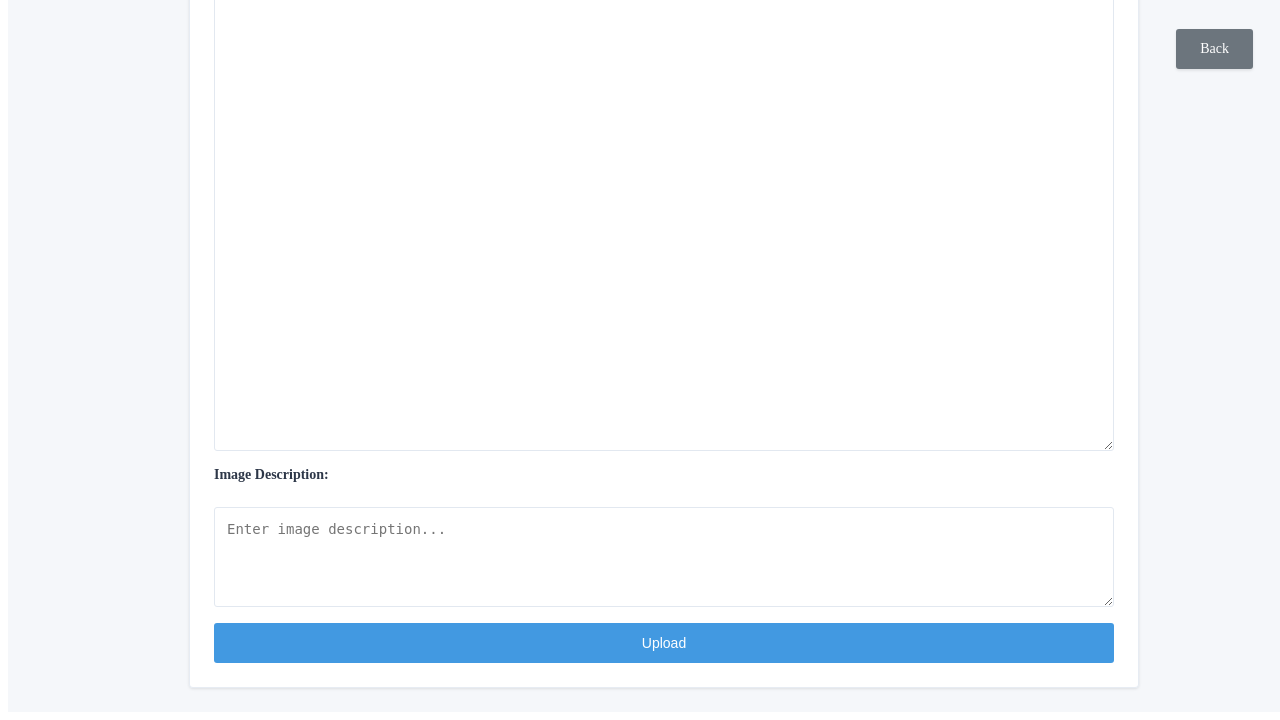
Test: UploadZPLPage › handles axios error gracefully
(page scrolled)
Click the button "Upload" at (664, 643), box [214, 623, 1114, 663]
(page scrolled)
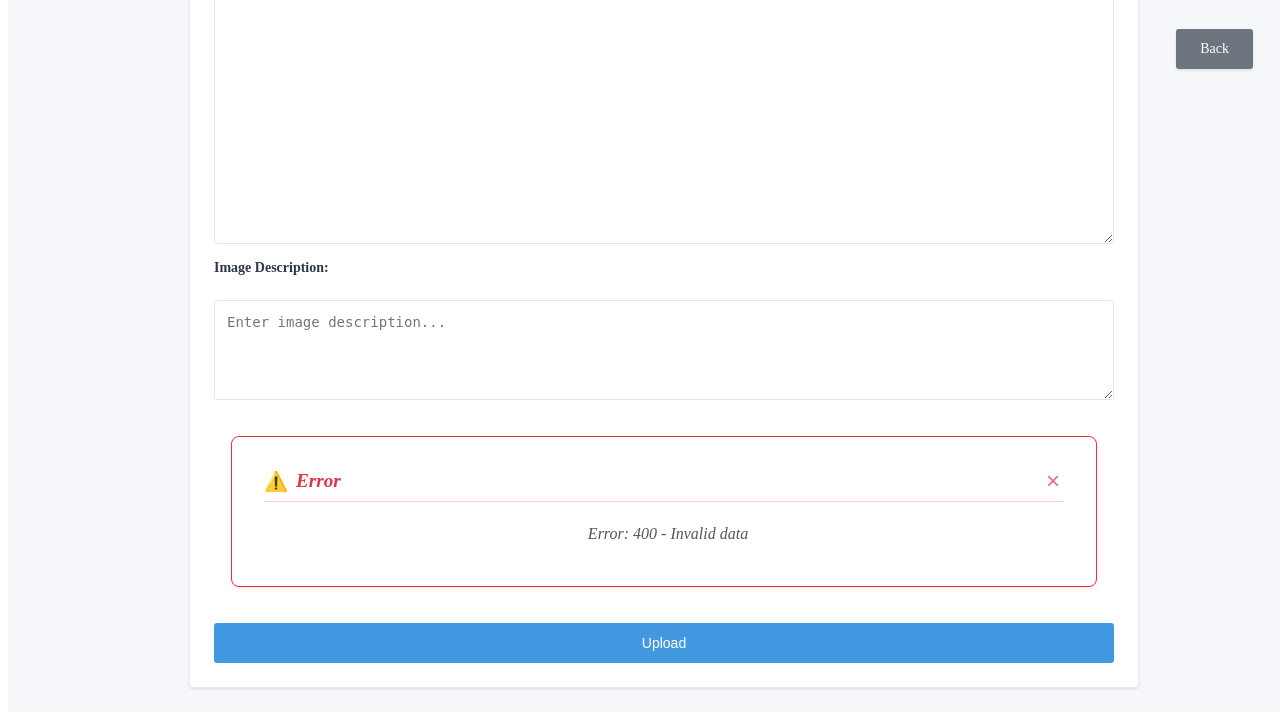
Now the text "Error: 400 - Invalid data" is shown, box [588, 525, 748, 542]
